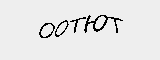О: (37, 18, 54, 40), (54, 18, 70, 40)
Т: (66, 15, 86, 39), (108, 12, 126, 35)
Ю: (81, 13, 110, 37)
